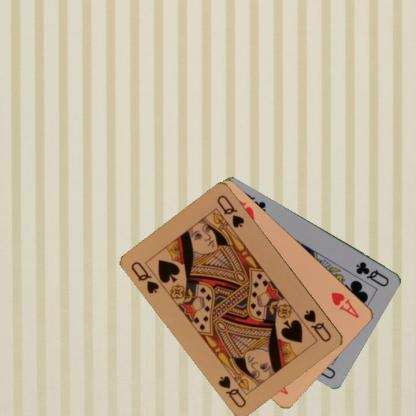Ah: (329, 289, 361, 319)
Qc: (354, 258, 391, 288)
Qs: (128, 259, 161, 295), (301, 307, 333, 343)
